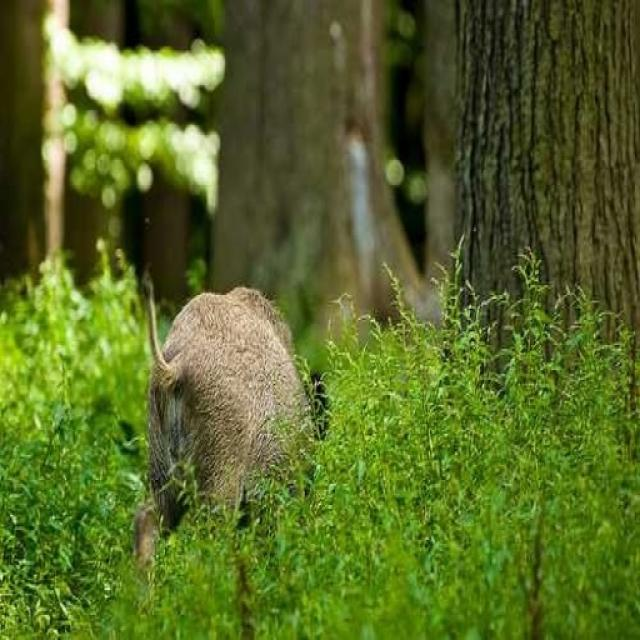pig: (93, 254, 334, 546)
